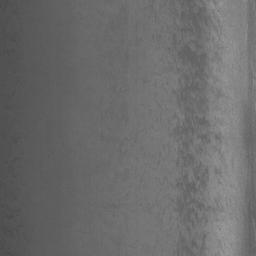Silk spot: (170, 45, 224, 234), (168, 0, 212, 53), (174, 231, 209, 256), (197, 132, 224, 145), (195, 96, 209, 113), (212, 88, 225, 99), (215, 168, 223, 184)
